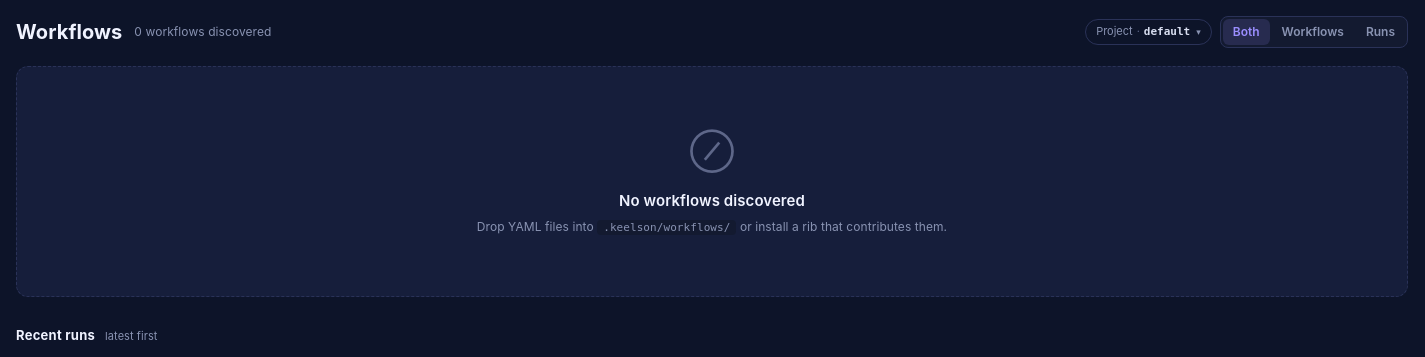
Workflows view-mode rendering › selecting 'Runs' hides the catalog and keeps Recent runs
Check: the element showing "Both Workflows Runs" is shown, box top-left (1220, 16), bottom-right (1408, 48)
Click the radio button labelled "Runs" at (1380, 32), box top-left (1356, 19), bottom-right (1405, 45)
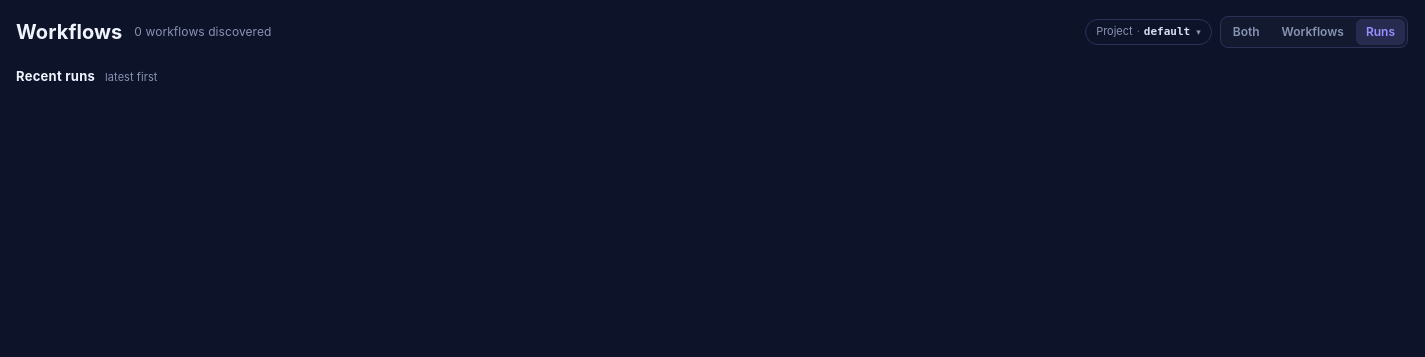
Check: the heading "Recent runs" is shown, box top-left (16, 66), bottom-right (95, 86)
Check: the text "No workflows discovered" is gone
